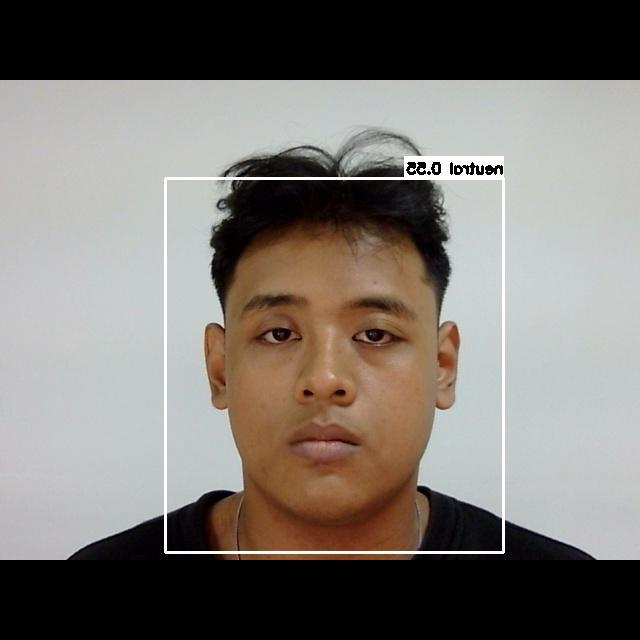Natural: (231, 288, 424, 482)
